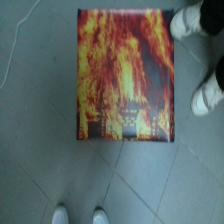fire-poster: (77, 9, 174, 142)
